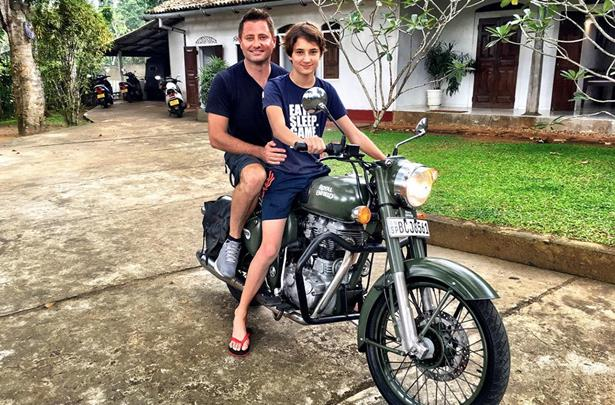bike: (197, 122, 528, 405), (154, 72, 187, 114), (118, 70, 143, 102), (93, 74, 114, 106)
person: (270, 21, 388, 233), (208, 7, 285, 270)
tree: (2, 4, 53, 133)
